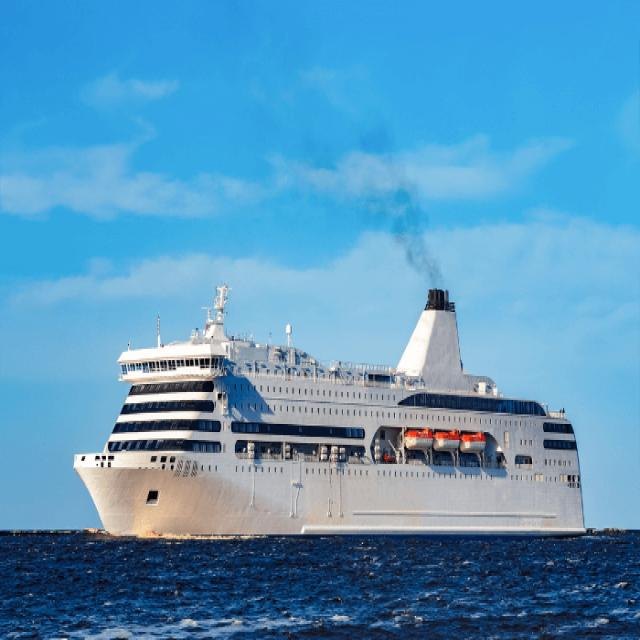PassengerShip: (49, 148, 616, 582)
